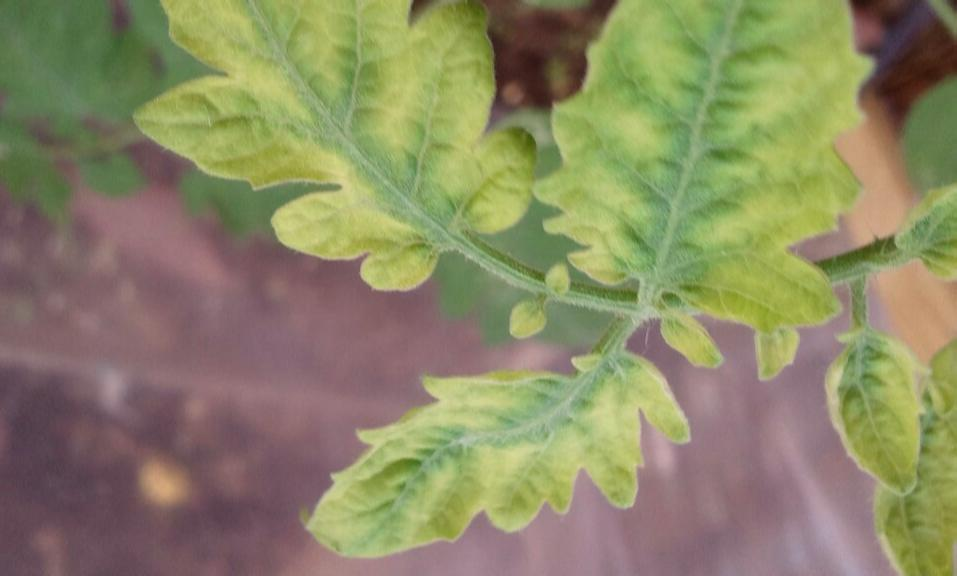Tomato leaf yellow virus: (157, 0, 534, 302), (249, 331, 682, 576), (557, 0, 889, 314), (862, 340, 957, 576), (817, 327, 919, 505)
